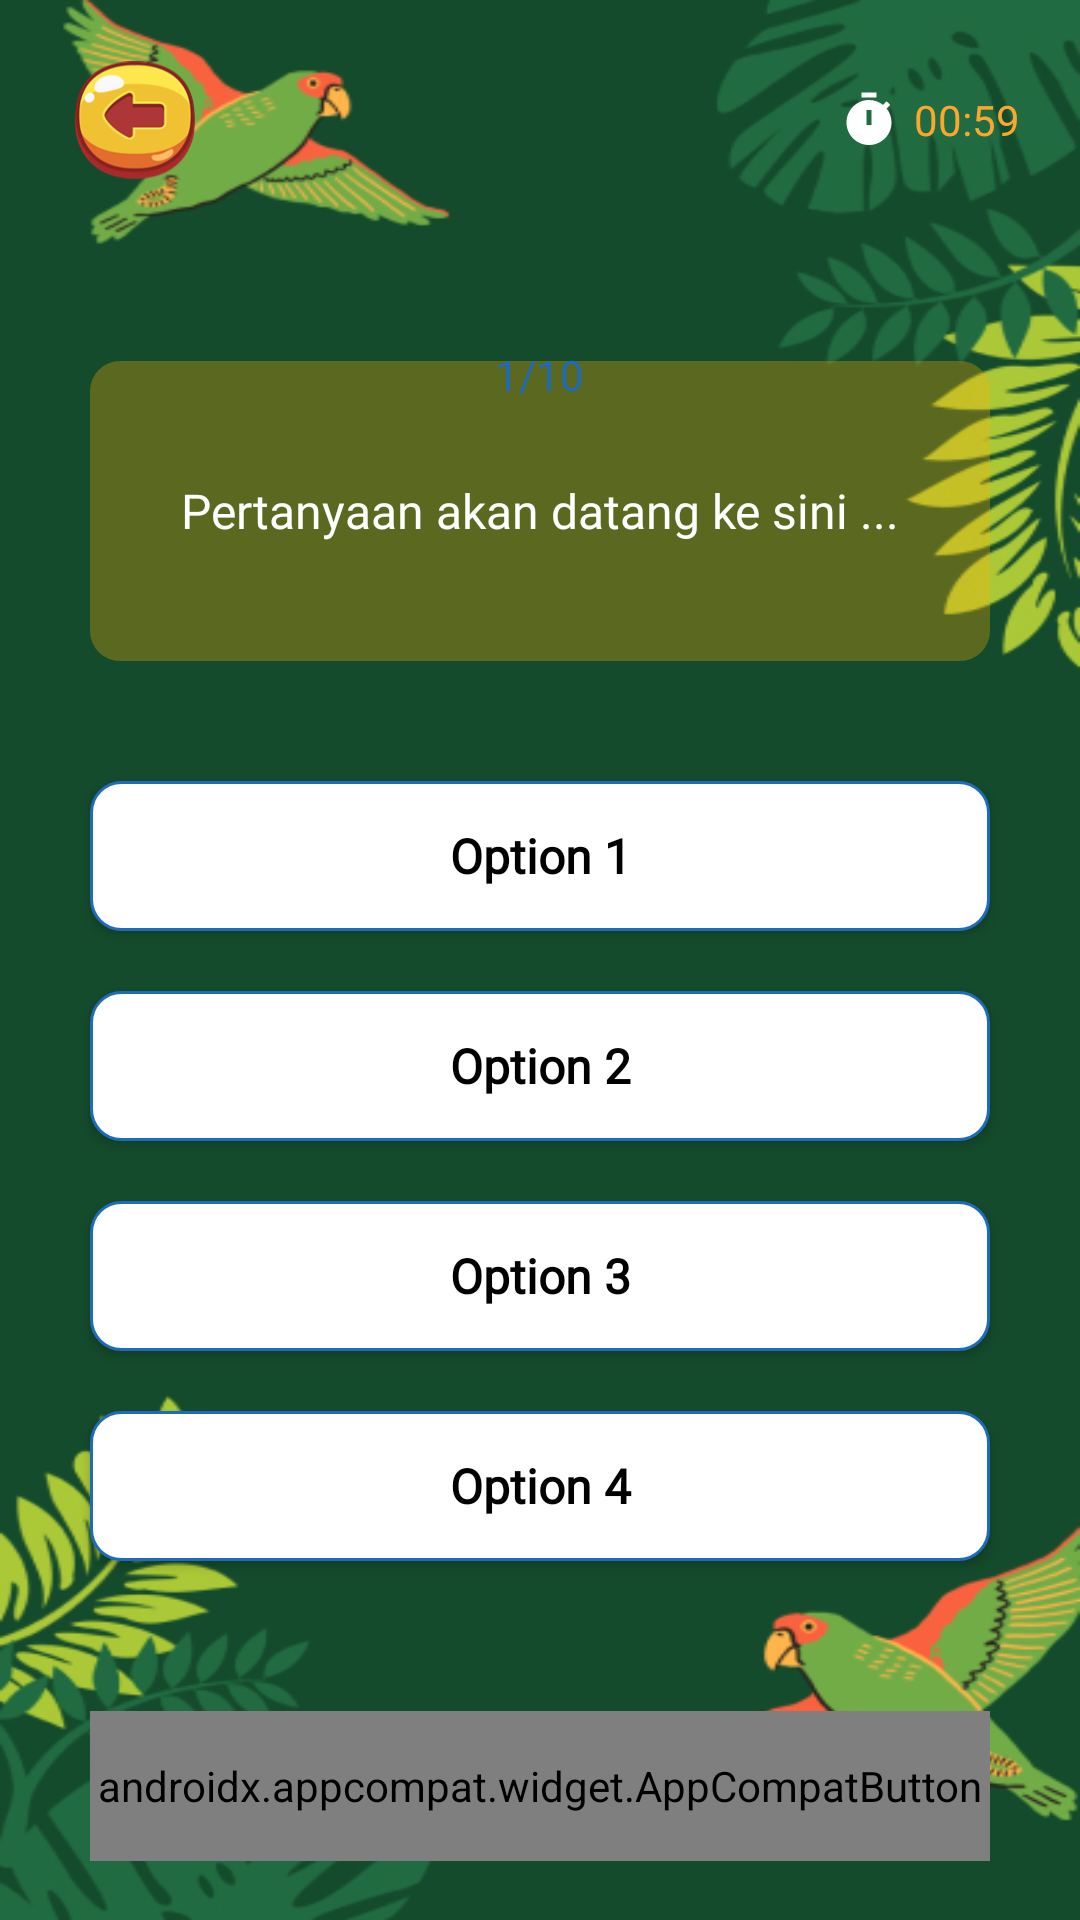

Icon click points for this 1080x1920 phone screenshot, format [x,y]:
back: [135,120]
timer: [870,120]
